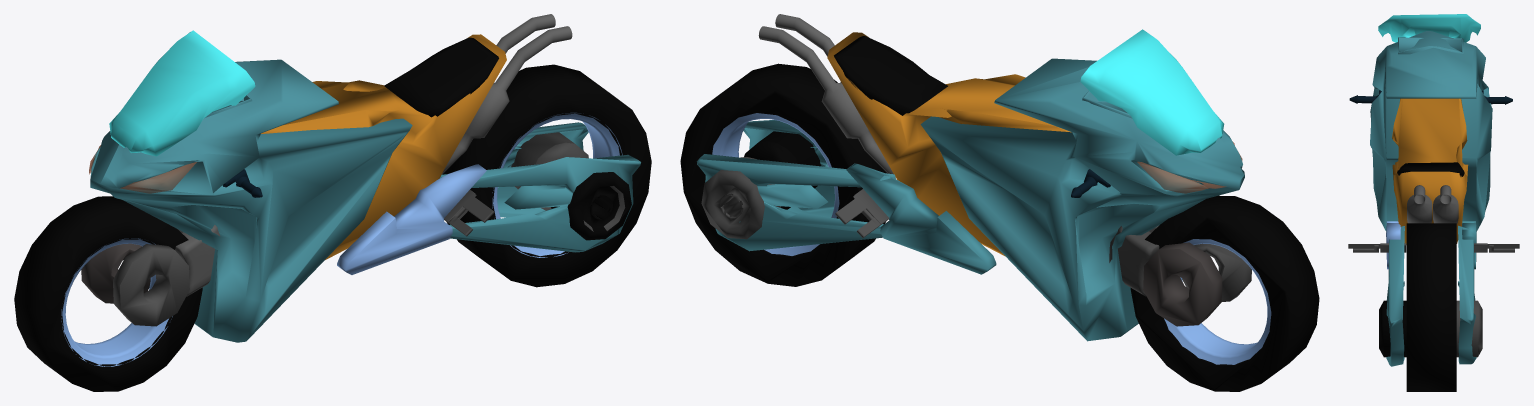
File: ütopik motor.fbx
The picture shows the model from 3 angles, left to right: view 1: azimuth 30°, elevation 25°; view 2: azimuth 150°, elevation 25°; view 3: azimuth 270°, elevation 25°; orthographic projection. The views are drawn at different scales.
Visible parts, largest first — view 1: polySurface151, polySurface142, polySurface141, polySurface135, polySurface138, polySurface168, polySurface169, polySurface139, polySurface165, polySurface167, polySurface143, pCylinder34 (+8 smaller); view 2: polySurface151, polySurface142, polySurface141, polySurface149, polySurface135, polySurface138, polySurface164, polySurface139, polySurface166, pCylinder50, polySurface143, polySurface140 (+7 smaller); view 3: polySurface151, polySurface141, polySurface135, polySurface149, polySurface138, polySurface168, pCylinder50, pCylinder34, polySurface167, polySurface166, polySurface139, polySurface169 (+4 smaller).
Boxes of the visible parts, bbox=[...] form: polySurface151: bbox=[90, 59, 412, 342]; polySurface142: bbox=[14, 196, 202, 391]; polySurface141: bbox=[442, 64, 651, 287]; polySurface135: bbox=[261, 34, 506, 259]; polySurface138: bbox=[109, 30, 255, 156]; polySurface168: bbox=[439, 154, 640, 252]; polySurface169: bbox=[337, 164, 486, 274]; polySurface139: bbox=[384, 37, 498, 117]; polySurface165: bbox=[113, 244, 189, 326]; polySurface167: bbox=[551, 172, 631, 240]; polySurface143: bbox=[61, 238, 172, 366]; pCylinder34: bbox=[442, 26, 572, 174]; polySurface151: bbox=[920, 58, 1244, 341]; polySurface142: bbox=[1130, 195, 1319, 391]; polySurface141: bbox=[680, 63, 887, 286]; polySurface149: bbox=[696, 154, 996, 274]; polySurface135: bbox=[827, 32, 1071, 256]; polySurface138: bbox=[1080, 29, 1224, 155]; polySurface164: bbox=[1143, 242, 1222, 326]; polySurface139: bbox=[834, 36, 947, 115]; polySurface166: bbox=[701, 157, 780, 239]; pCylinder50: bbox=[758, 26, 893, 174]; polySurface143: bbox=[1164, 239, 1271, 364]; polySurface140: bbox=[712, 113, 839, 255]; polySurface151: bbox=[1370, 31, 1492, 231]; polySurface141: bbox=[1406, 223, 1456, 391]; polySurface135: bbox=[1392, 98, 1468, 244]; polySurface149: bbox=[1458, 221, 1476, 364]; polySurface138: bbox=[1378, 14, 1480, 42]; polySurface168: bbox=[1386, 226, 1404, 366]; pCylinder50: bbox=[1433, 185, 1458, 223]; pCylinder34: bbox=[1407, 185, 1432, 223]; polySurface167: bbox=[1379, 300, 1406, 357]; polySurface166: bbox=[1456, 300, 1482, 357]; polySurface139: bbox=[1397, 162, 1464, 176]; polySurface169: bbox=[1386, 221, 1400, 269].
Size of the model in its own units: 8203 by 3935 by 2539.
